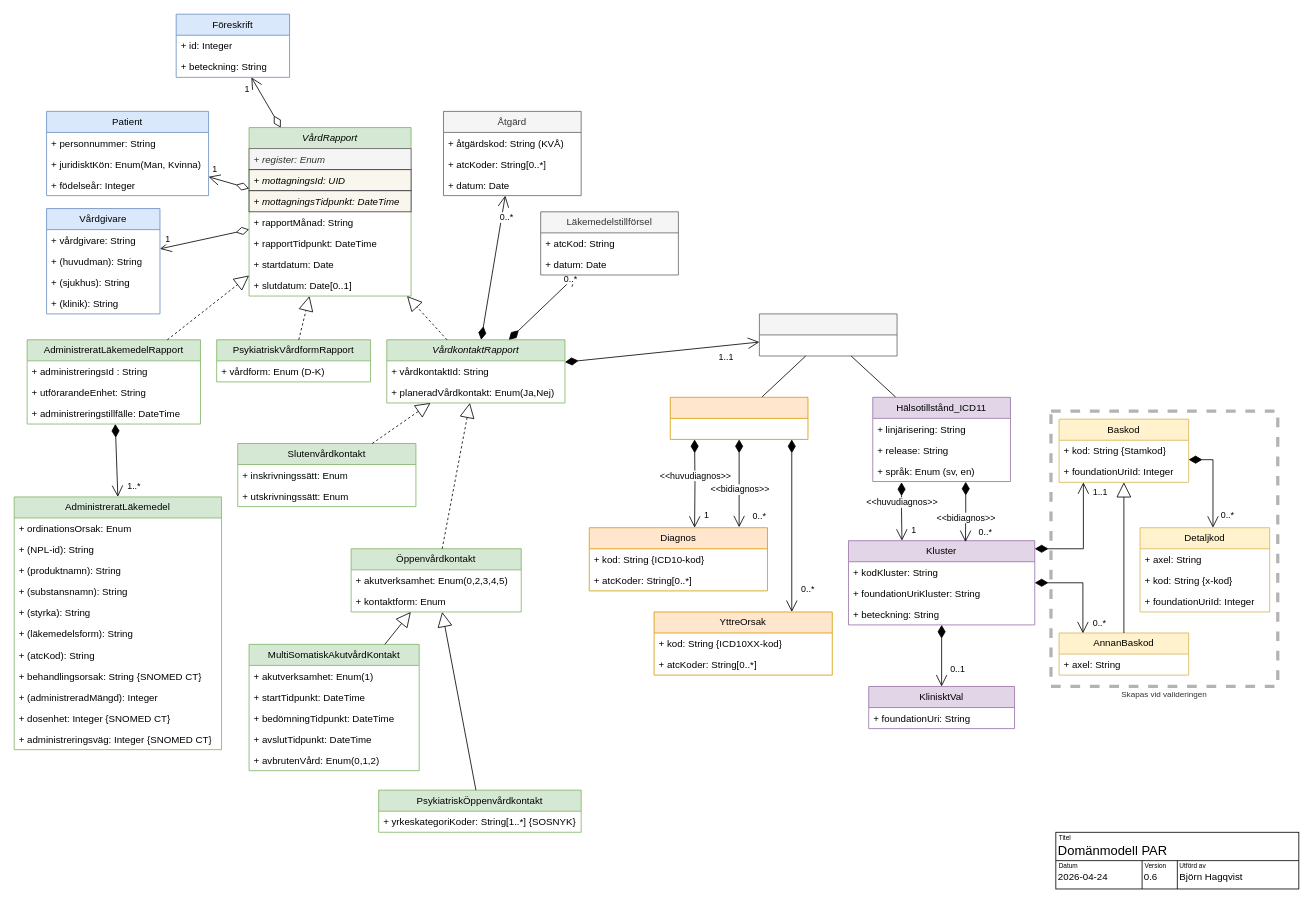
This 1314x904 diagram has some shape labels left out. Here are the shapes that lost their labels. From the top down, the centre of each, then its label:
point (828, 334): Hälsotillstånd
point (738, 417): Hälsotillstånd_ICD10
